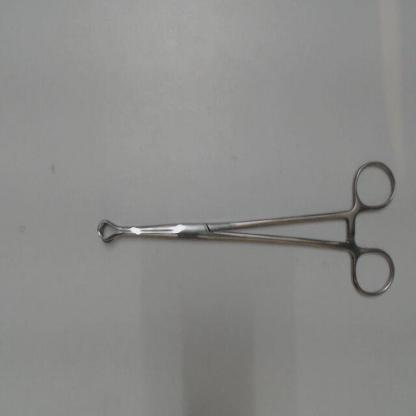8 Babcock Tissue Forceps: (89, 152, 399, 308)
